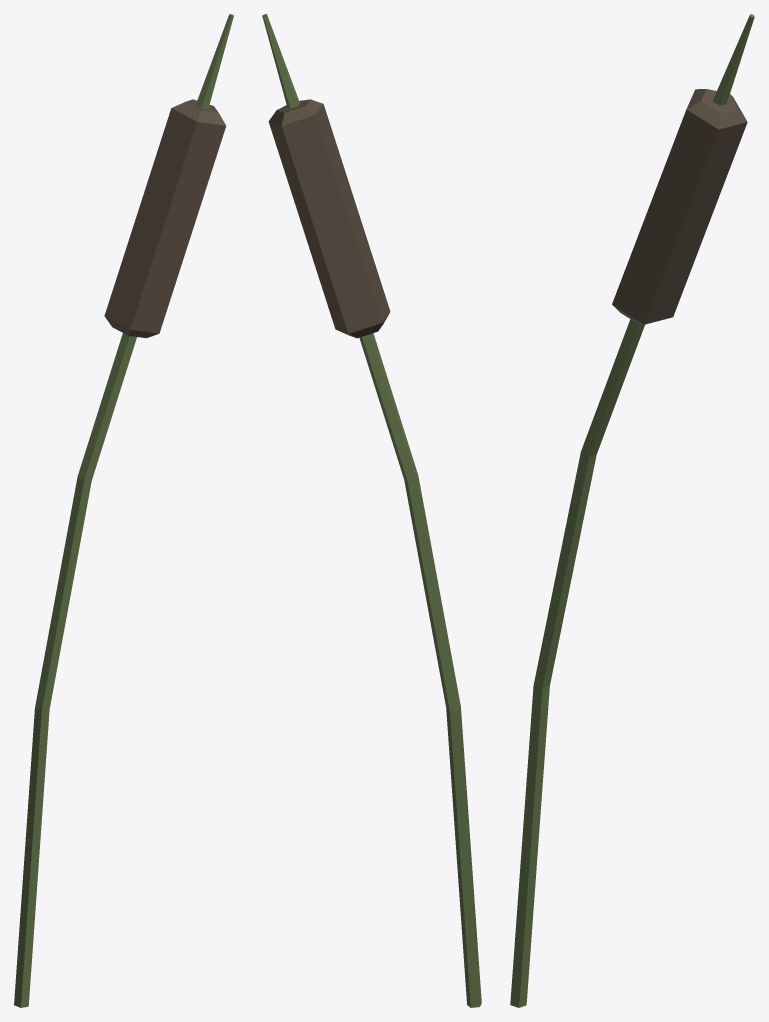
File: SM_Envr_Nature_Plant_Reed_01.fbx
3 renders of one model, left to right at view 1: azimuth 30°, elevation 25°; view 2: azimuth 150°, elevation 25°; view 3: azimuth 330°, elevation 25°, orthographic. The views are drawn at different scales.
Visible parts, largest first — view 1: SM_Envr_Nature_Plant_Reed_01; view 2: SM_Envr_Nature_Plant_Reed_01; view 3: SM_Envr_Nature_Plant_Reed_01.
Part boxes in pixels (left/top/right/bottom): SM_Envr_Nature_Plant_Reed_01: left=14, top=14, right=233, bottom=1007; SM_Envr_Nature_Plant_Reed_01: left=262, top=14, right=481, bottom=1007; SM_Envr_Nature_Plant_Reed_01: left=510, top=14, right=754, bottom=1007.
Size of the model in its own units: 22.37 by 91.96 by 4.88.
